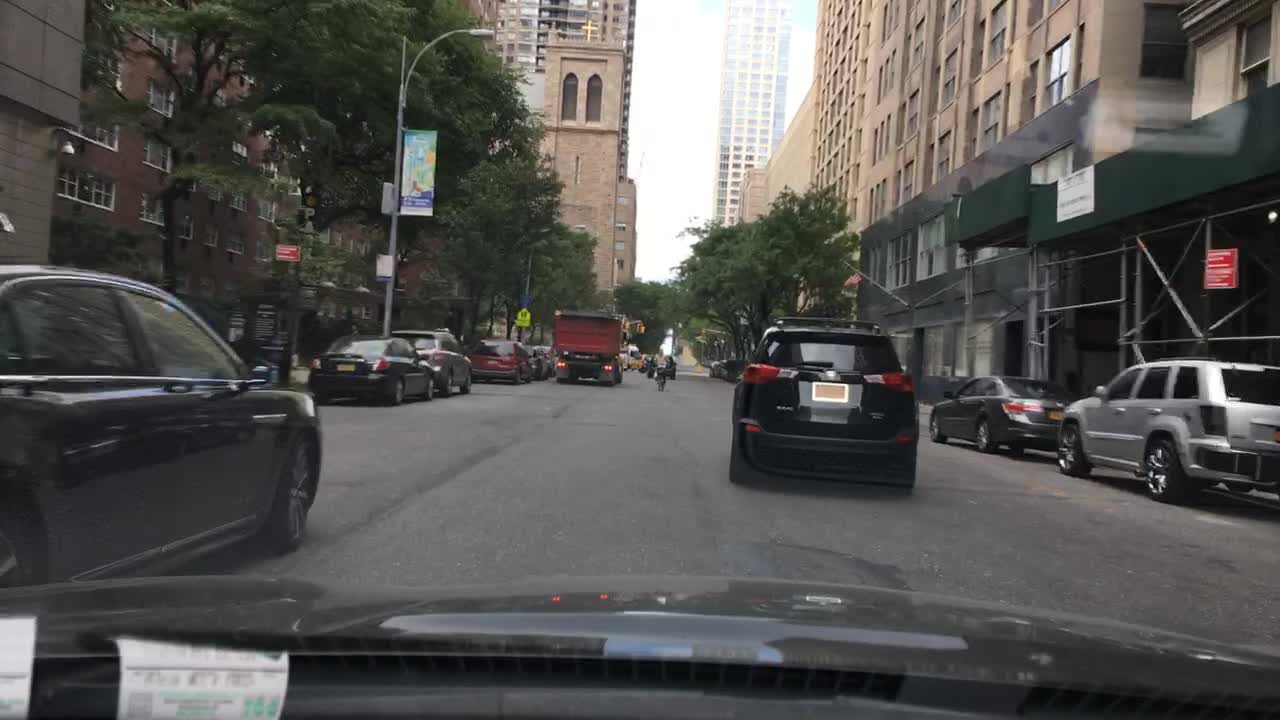bus: (622, 342, 638, 368)
car: (0, 263, 325, 592), (727, 313, 921, 496), (1054, 356, 1278, 504), (927, 371, 1070, 460), (306, 329, 435, 408), (387, 325, 473, 399), (468, 334, 534, 385), (519, 341, 550, 383), (718, 356, 750, 384), (647, 356, 678, 377), (539, 343, 558, 377), (637, 354, 651, 370), (708, 361, 722, 376)
person: (654, 361, 665, 389)
traffic light: (635, 323, 644, 335)
traffic sign: (1207, 247, 1237, 289), (374, 252, 392, 281), (274, 244, 300, 261), (517, 307, 530, 325)
truck: (551, 306, 625, 385)
